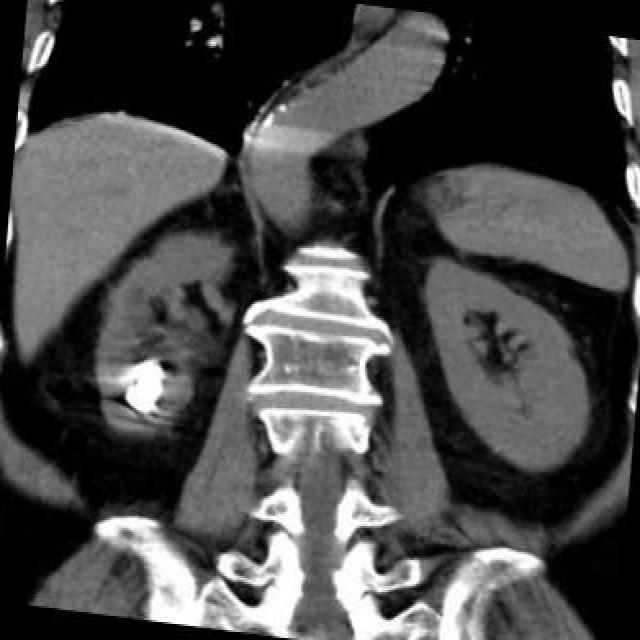Tas_Var: (115, 347, 180, 419)
